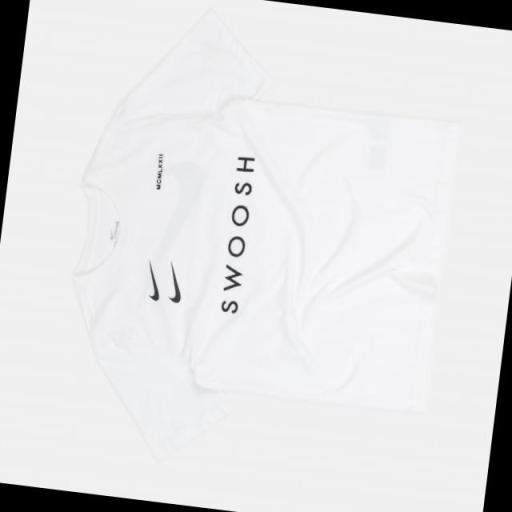Nike: (164, 261, 186, 306)
